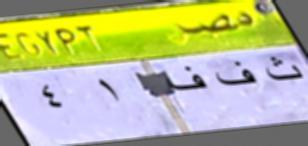1: (92, 75, 125, 105)
4: (36, 78, 68, 115)
faa: (213, 58, 258, 96), (166, 63, 208, 94)
thaa: (263, 53, 305, 85)
